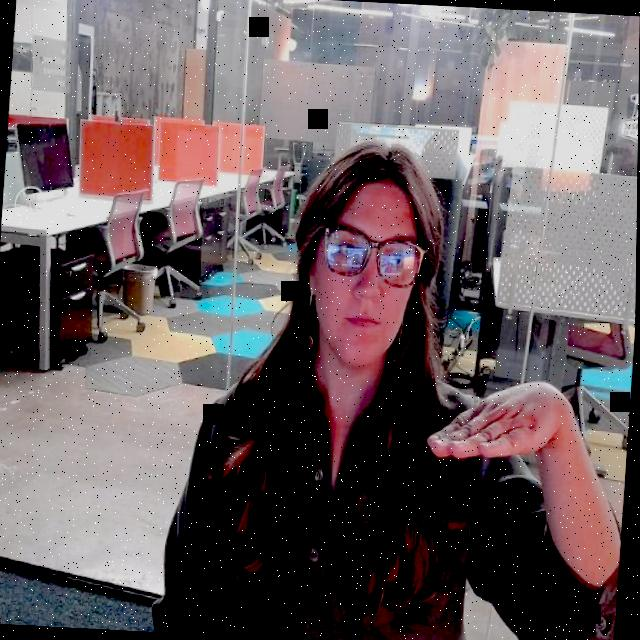Paper: (415, 370, 587, 489)
